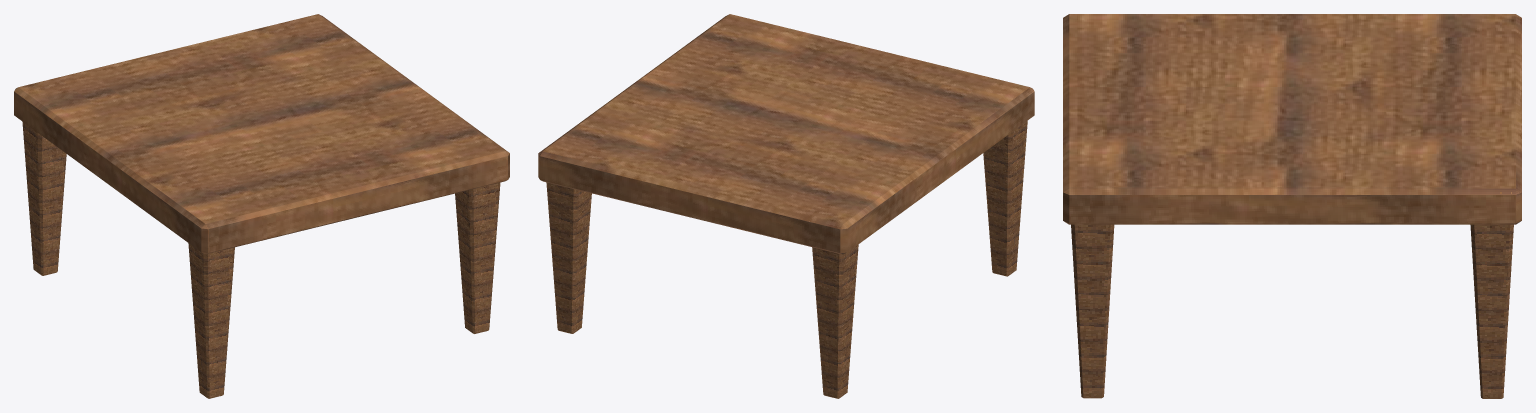
The model's file is table_small.gltf.
The picture shows the model from 3 angles, left to right: view 1: azimuth 30°, elevation 25°; view 2: azimuth 150°, elevation 25°; view 3: azimuth 270°, elevation 25°; orthographic projection. The views are drawn at different scales.
Visible parts, largest first — view 1: table_small; view 2: table_small; view 3: table_small.
Boxes of the visible parts, left/top/right/bottom form: table_small: left=14, top=14, right=509, bottom=398; table_small: left=538, top=14, right=1034, bottom=398; table_small: left=1063, top=14, right=1521, bottom=398.
Size of the model in its own units: 0.9897 by 0.5556 by 1.07.
1 material, 1 textured.
